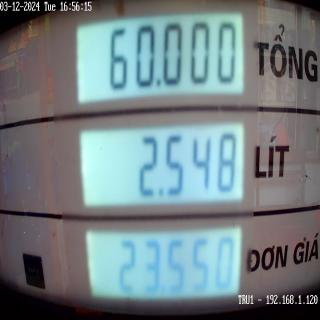screen: (70, 6, 250, 311)
